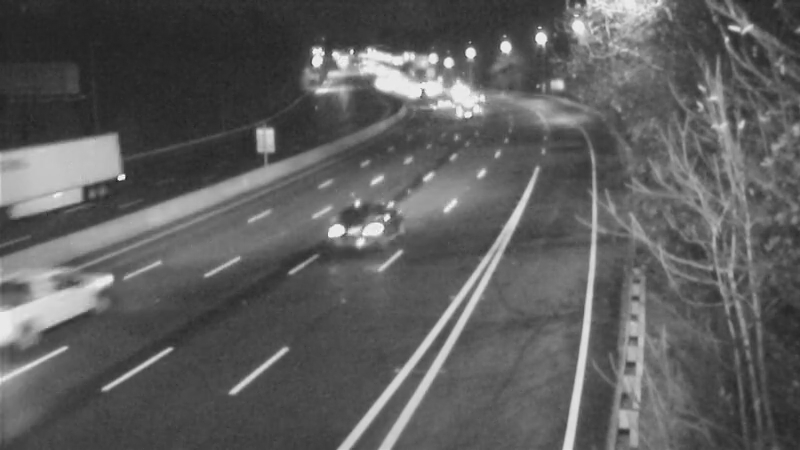vehicle: (313, 193, 393, 273), (14, 256, 94, 336), (9, 138, 89, 218), (432, 63, 482, 113), (457, 73, 507, 123), (410, 79, 460, 129), (438, 86, 488, 136)
